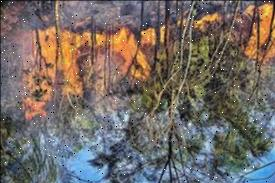fire: (22, 22, 146, 120), (216, 0, 275, 66)
